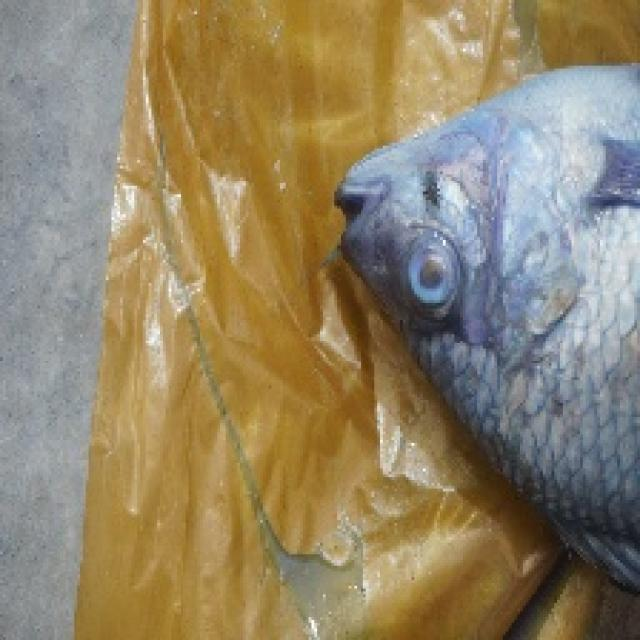Non-Fresh: (402, 223, 468, 327)
